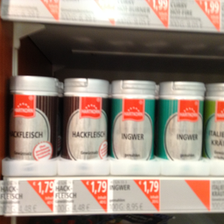spices: (9, 74, 58, 159), (63, 76, 109, 159), (110, 79, 157, 160), (159, 81, 205, 159), (205, 82, 224, 158)
